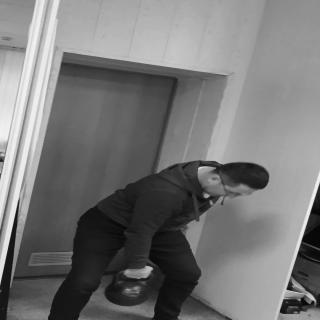girya: (107, 270, 156, 307)
